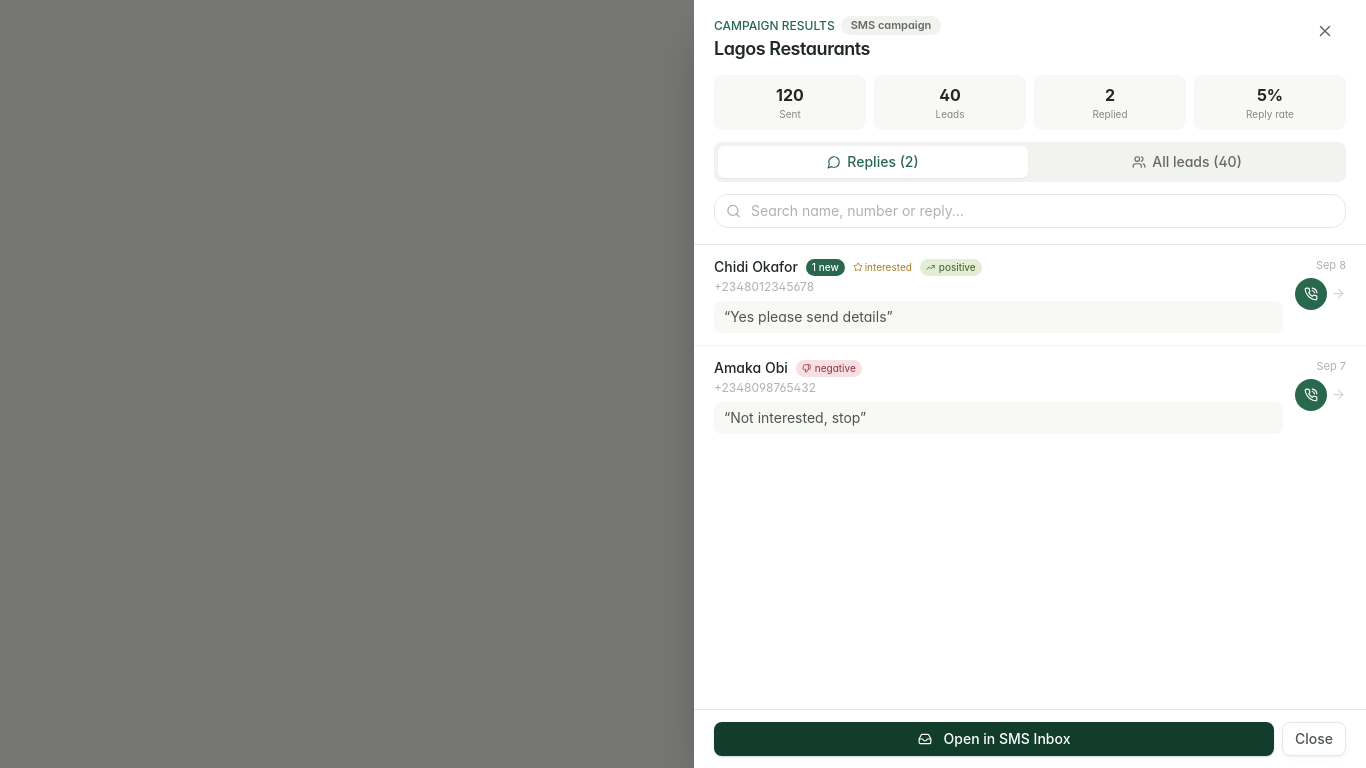
it: CampaignRepliesDrawer — campaign to reply to chat › filters the list as you search
The image size is (1366, 768).
Expected: the text "Chidi Okafor" is shown, [714,257,798,277]
Type "amaka" into the field with placeholder "Search name, number or reply…" at x=1030, y=211, box [714,194,1346,228]
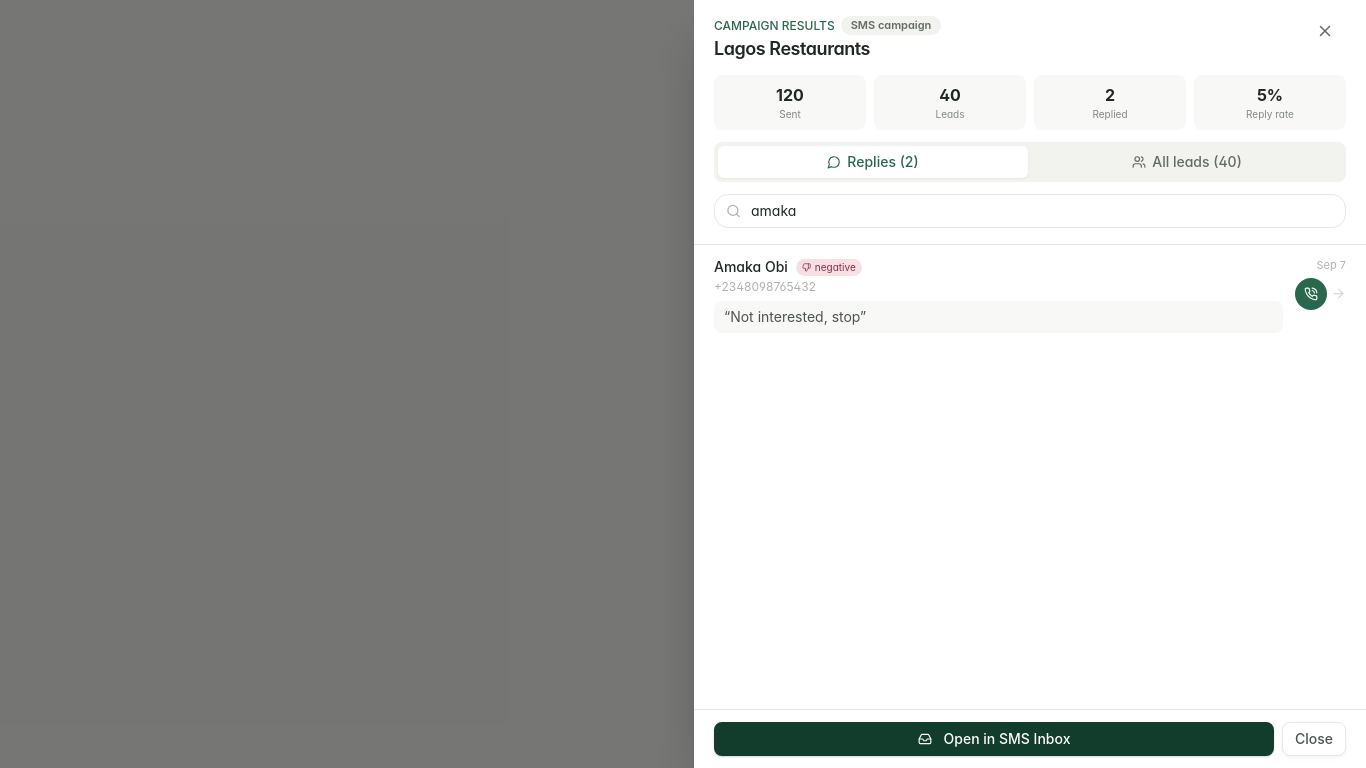
Expected: the text "Amaka Obi" is shown, [714,257,788,277]
Expected: the button "Chidi Okafor" is gone
